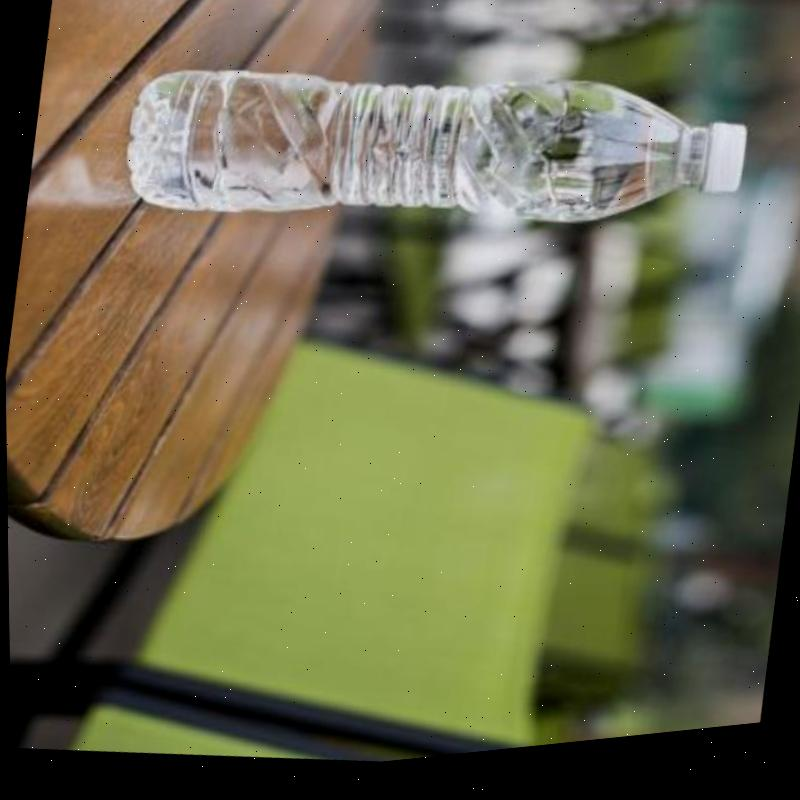botella: (114, 7, 760, 300)
